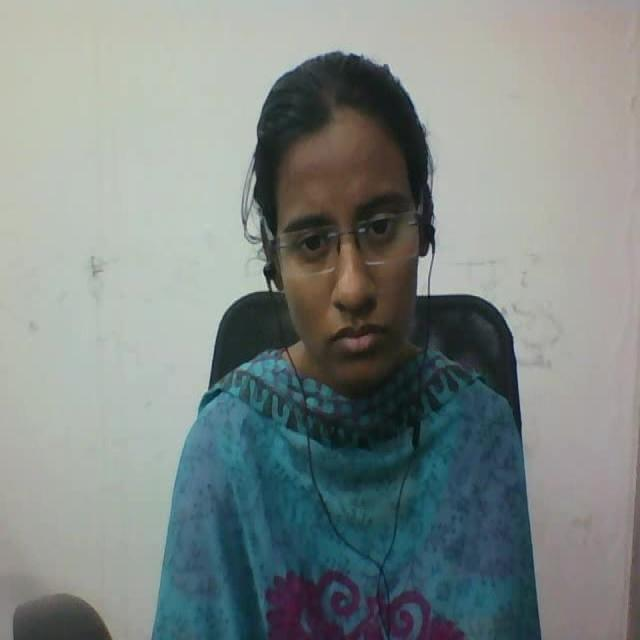Engaged: (225, 35, 513, 428)
